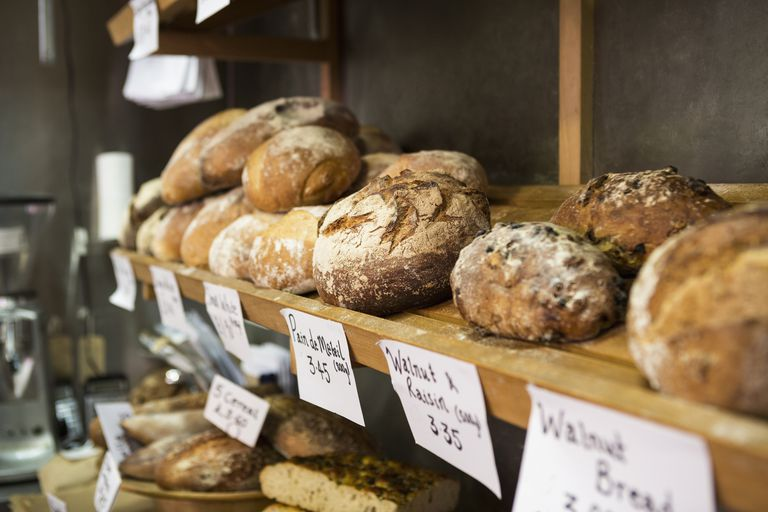slice of bread: (312, 181, 466, 297), (453, 225, 609, 339), (558, 172, 729, 244), (261, 445, 432, 512), (252, 205, 339, 290), (242, 137, 346, 206)
